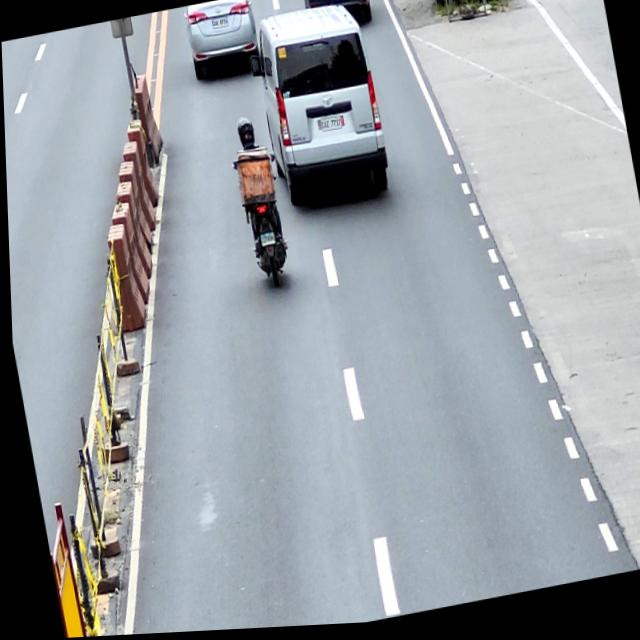Car: (242, 1, 392, 216), (182, 0, 264, 85), (301, 0, 374, 37)
License-Plate: (319, 118, 342, 135), (211, 19, 229, 32), (258, 236, 274, 249)
Motorcycle: (230, 154, 295, 294)
